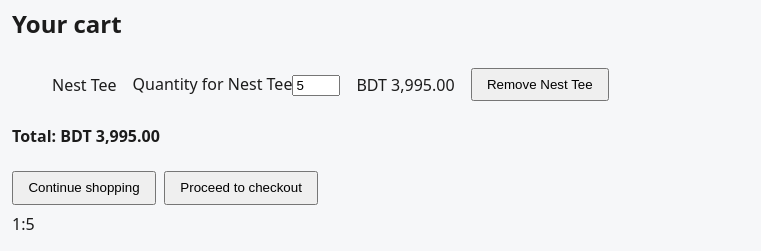
Test: QuantityInput inside the cart › F3/F5 (box): the box shows the clamped number even when the cart already holds it
Replace the text in the number field labelled "Quantity for Nest Tee" with "9": [316, 86] box [292,75,340,96]
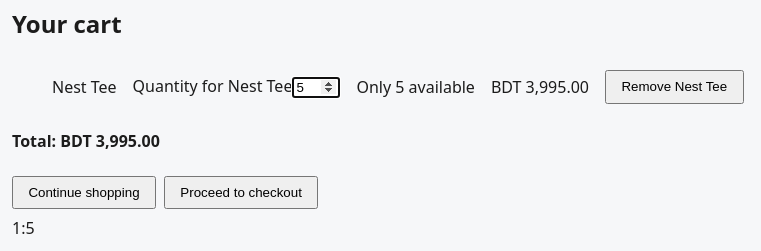
Result: the number field labelled "Quantity for Nest Tee" holds "5" at [292,77,340,98]
